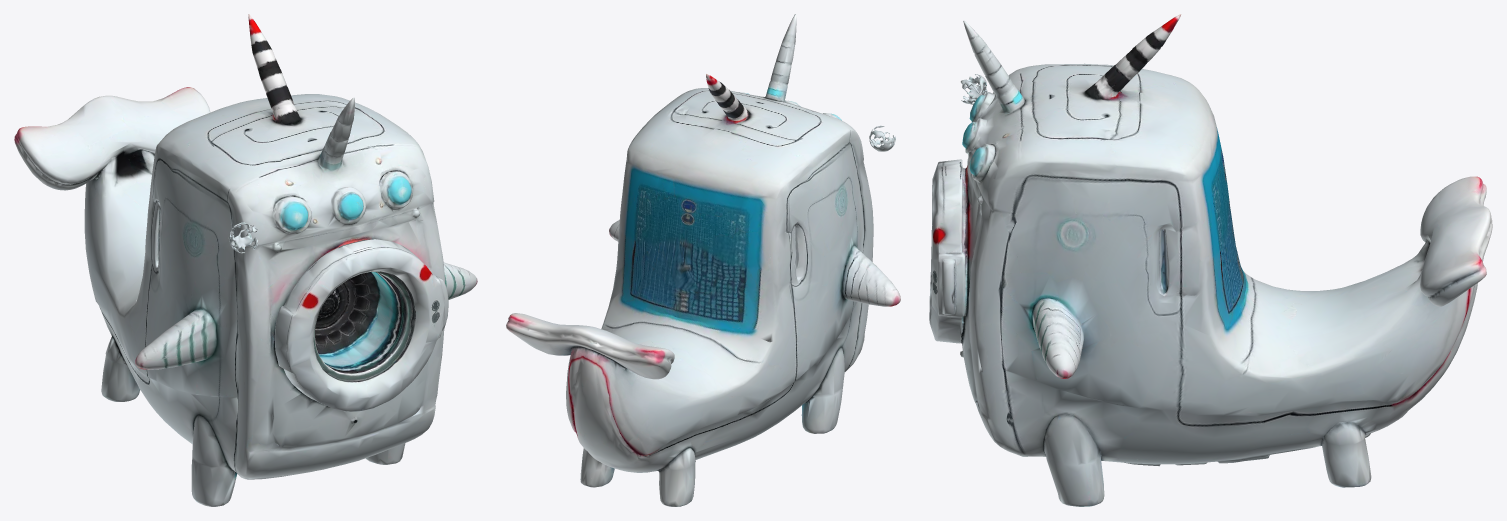
The model's file is washing-machine-narwhal-22130.glb.
The picture shows the model from 3 angles, left to right: view 1: azimuth 30°, elevation 25°; view 2: azimuth 150°, elevation 25°; view 3: azimuth 270°, elevation 25°; orthographic projection. The views are drawn at different scales.
Size of the model in its own units: 1.38 by 1.66 by 1.91.
Materials: 1 (1 with a texture image).
